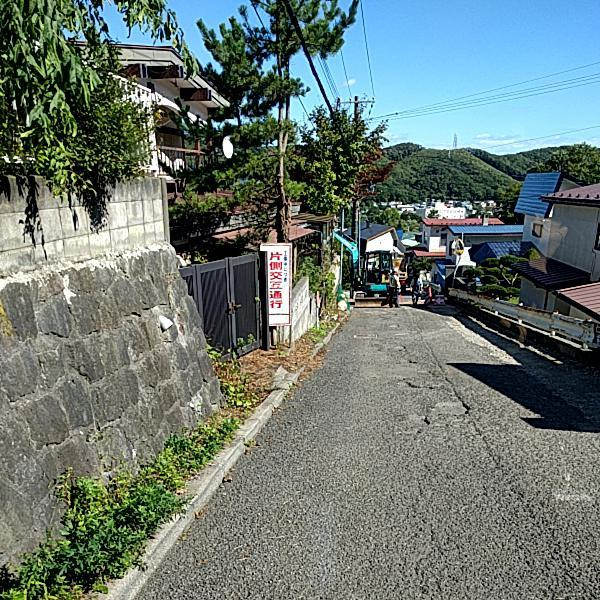D40: (405, 396, 479, 427)
